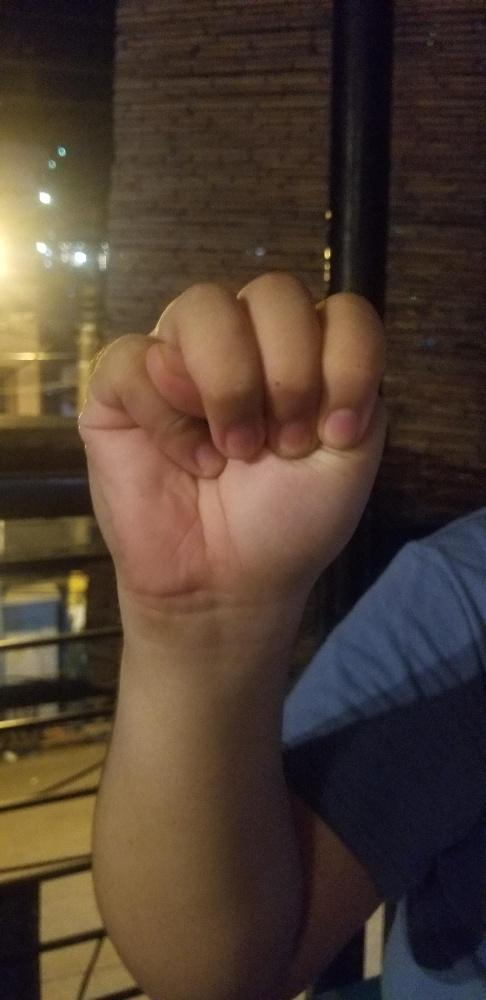m: (74, 270, 392, 594)
